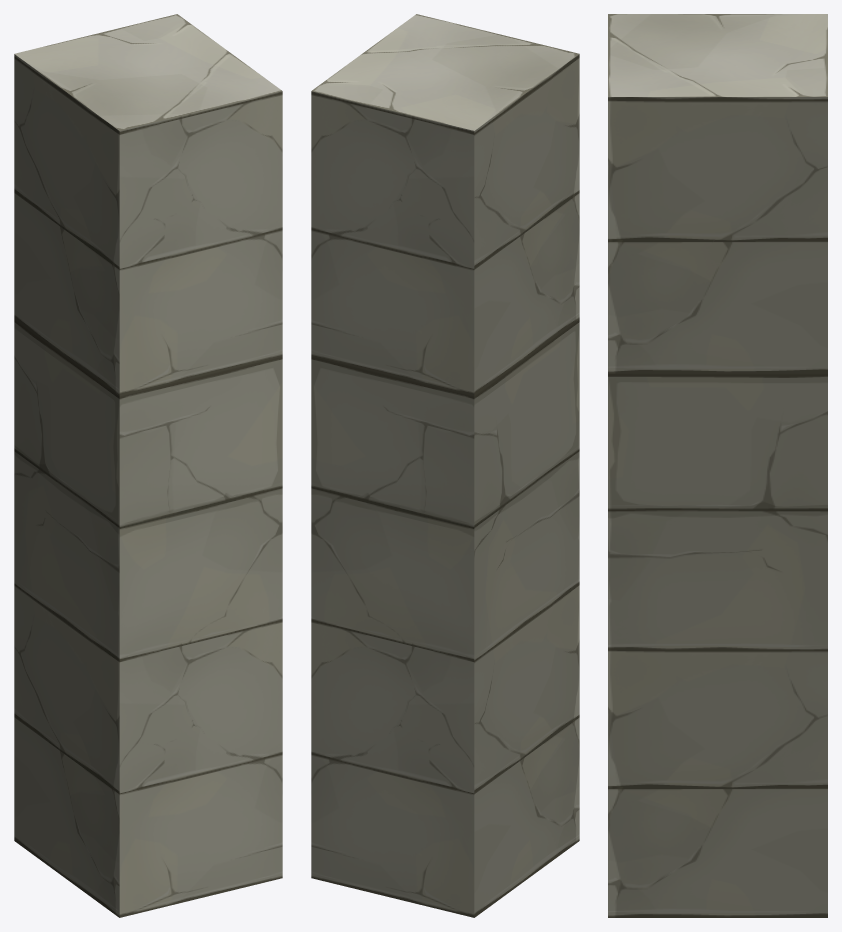
The model's file is Dg_01_pillar_001.FBX.
3 views of the same model, side by side, from view 1: azimuth 30°, elevation 25°; view 2: azimuth 150°, elevation 25°; view 3: azimuth 270°, elevation 25° (orthographic). The views are drawn at different scales.
Parts seen in each view (by area): view 1: Dg_01_pillar_001; view 2: Dg_01_pillar_001; view 3: Dg_01_pillar_001.
Boxes of the visible parts, x1=… form: Dg_01_pillar_001: x1=14, y1=14, x2=282, y2=917; Dg_01_pillar_001: x1=311, y1=14, x2=579, y2=917; Dg_01_pillar_001: x1=608, y1=14, x2=827, y2=917.
Bounding box in the file's own units: 1.09 × 5 × 1.21.
